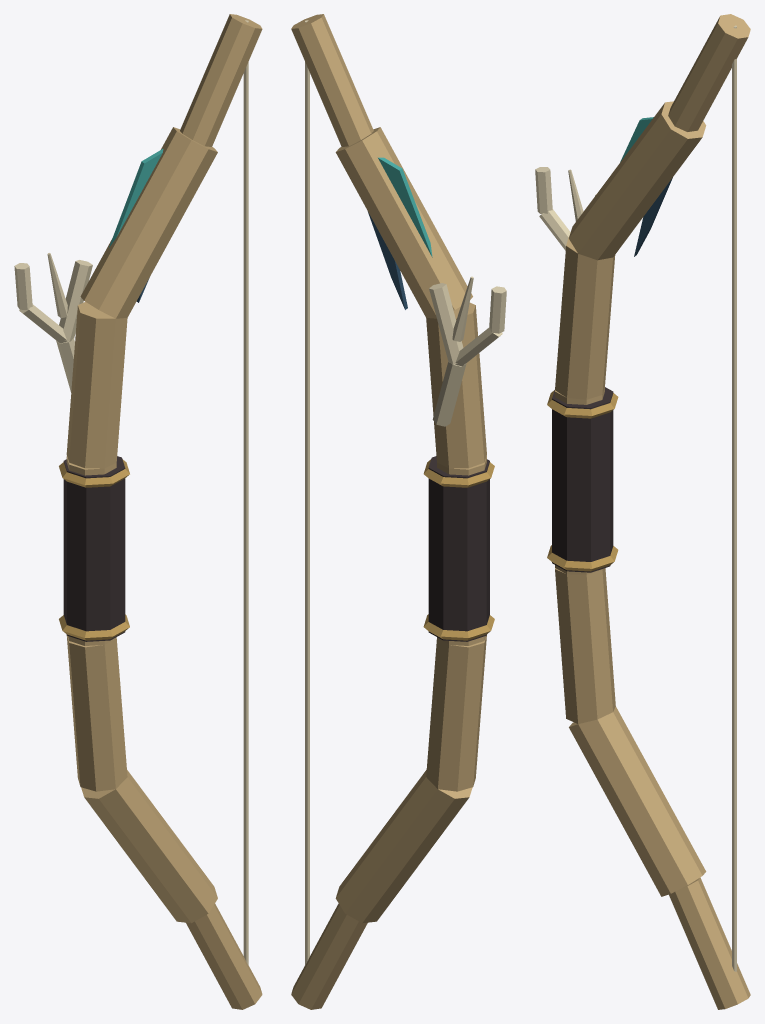
The model's file is Windward.fbx.
The picture shows the model from 3 angles, left to right: view 1: azimuth 30°, elevation 25°; view 2: azimuth 150°, elevation 25°; view 3: azimuth 330°, elevation 25°; orthographic projection.
Visible parts, largest first — view 1: Legendary_Windward; view 2: Legendary_Windward; view 3: Legendary_Windward.
Boxes of the visible parts, <box> form: Legendary_Windward: <box>14,14,262,1009</box>; Legendary_Windward: <box>291,14,506,1009</box>; Legendary_Windward: <box>535,14,750,1009</box>.
Bounding box in the file's own units: 0.4064 × 1.69 × 0.12.
